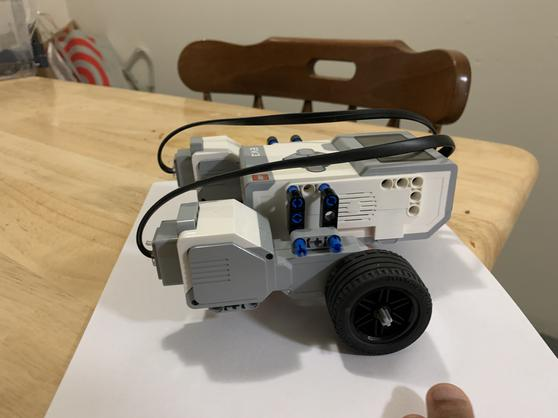robot: (133, 108, 468, 358)
